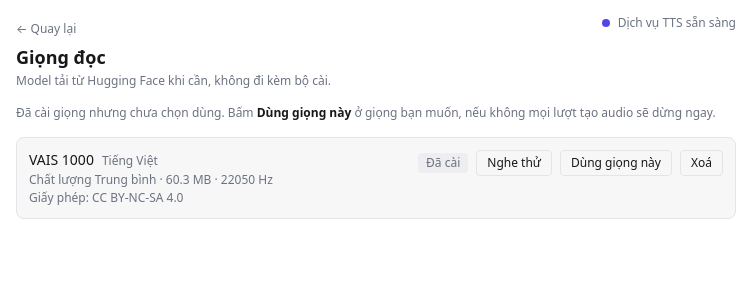
Scenario: nghe thử giọng › đang phát thì nút đổi thành Dừng và bấm lại thì im
Click the button with test id "voice-preview".
click(514, 163)  # box [476,150,552,176]
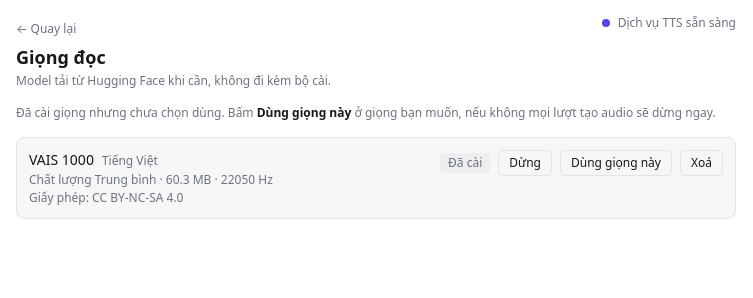
Expected: the button with test id "voice-preview" reads "Dừng"
Click the button with test id "voice-preview".
click(525, 163)  # box [498,150,552,176]
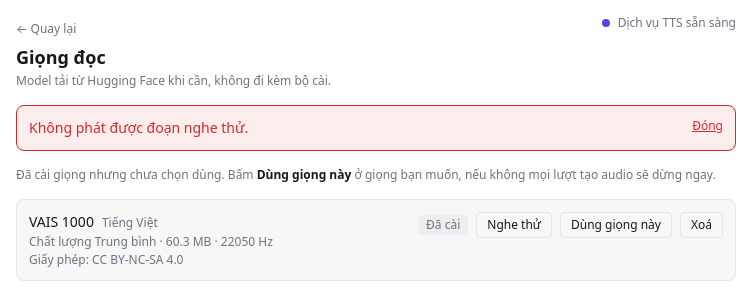
Expected: the button with test id "voice-preview" reads "Nghe thử", [476,212,552,238]
